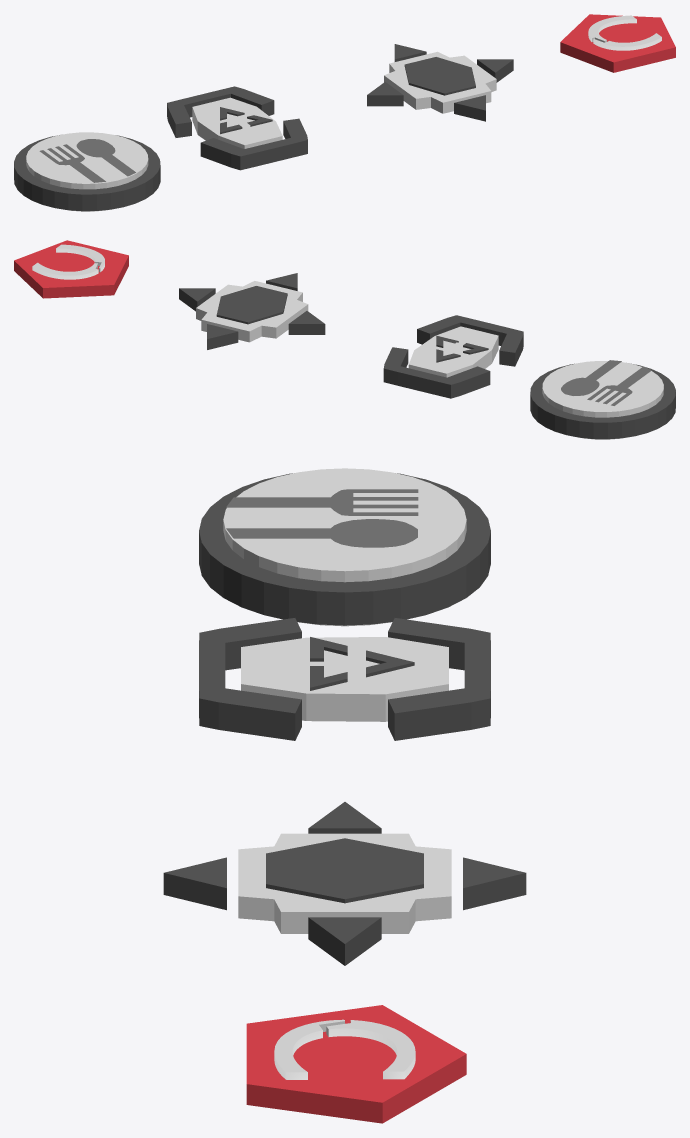
Rendered from Tokens finished v2.fbx.
The picture shows the model from 3 angles, top to bottom: view 1: azimuth 30°, elevation 25°; view 2: azimuth 150°, elevation 25°; view 3: azimuth 270°, elevation 25°; orthographic projection. The views are drawn at different scales.
Visible parts, largest first — view 1: Cylinder, Plane.002, Plane.005, Cylinder.004; view 2: Cylinder, Plane.002, Plane.005, Cylinder.004; view 3: Cylinder, Plane.002, Plane.005, Cylinder.004.
Part boxes in pixels (x1,y1,x2,y2): Cylinder: [14, 132, 160, 211]; Plane.002: [167, 86, 307, 170]; Plane.005: [367, 44, 513, 121]; Cylinder.004: [560, 14, 675, 72]; Cylinder: [530, 360, 675, 439]; Plane.002: [383, 315, 523, 398]; Plane.005: [179, 273, 325, 349]; Cylinder.004: [14, 240, 128, 298]; Cylinder: [199, 468, 490, 626]; Plane.002: [199, 618, 490, 740]; Plane.005: [163, 802, 526, 965]; Cylinder.004: [246, 1005, 466, 1123].
Bounding box in the file's own units: 1221 × 53.03 × 298.
